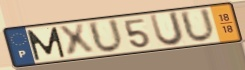5: (122, 17, 153, 49)
M: (25, 26, 67, 62)
U: (86, 17, 127, 55), (178, 7, 218, 44), (148, 10, 186, 48)
X: (56, 22, 98, 59)
